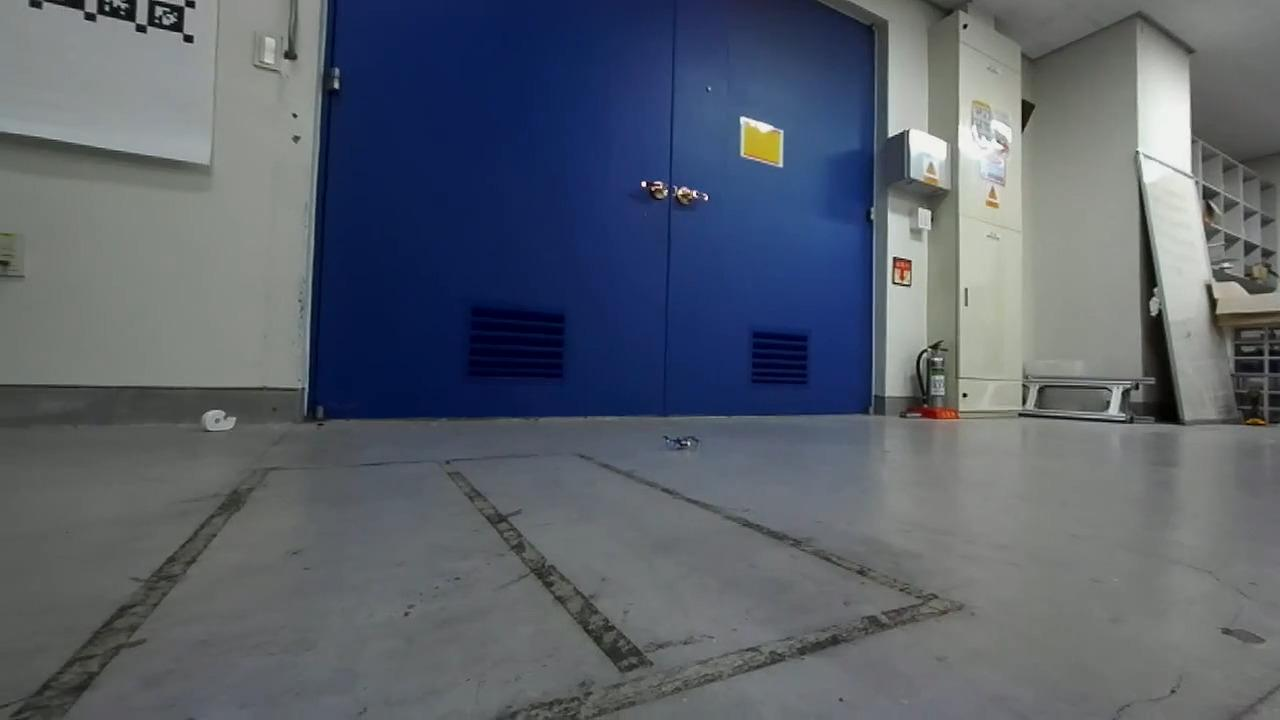crazyflie: (653, 426, 707, 456)
